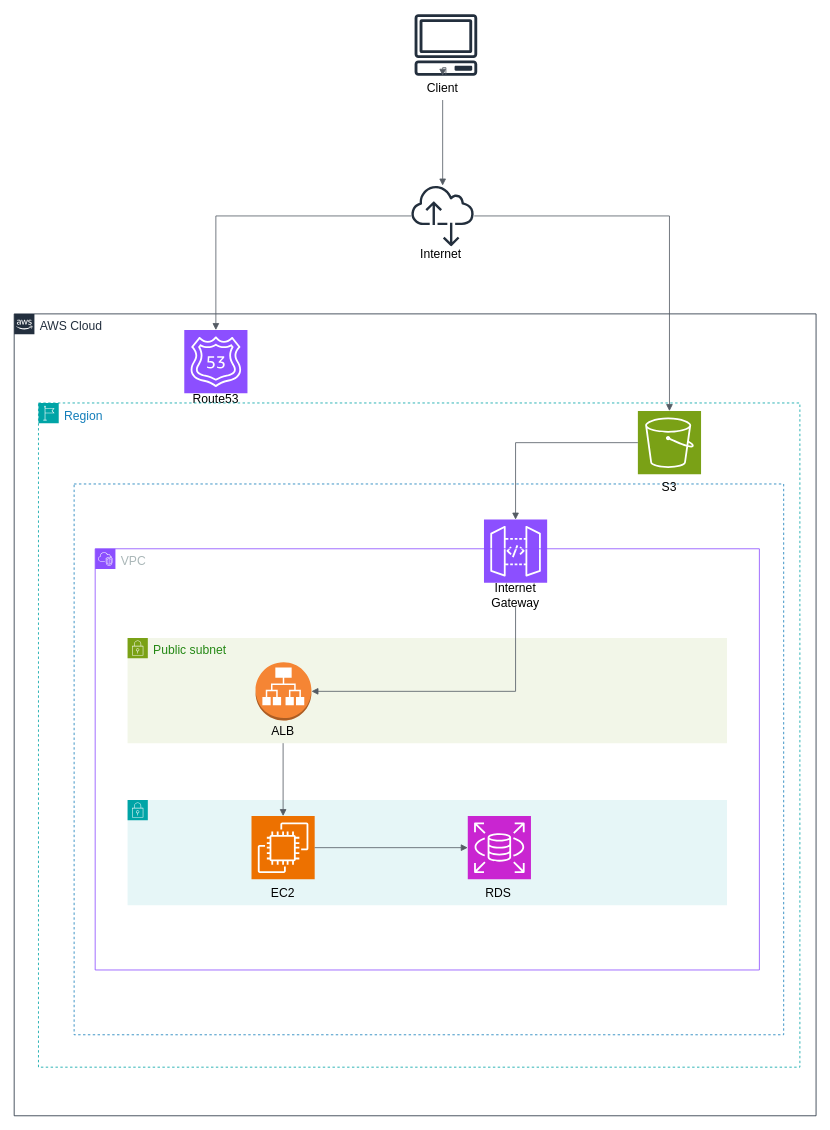
This 830x1130 diagram has some shape labels left out. Here are the shapes that lost their labels. From the top down, the box of each, then its label:
(73, 483, 784, 1035): Availability Zone
(127, 799, 727, 905): Private subnet
